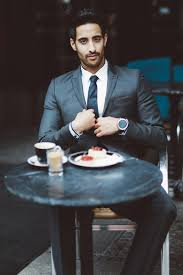middle_eastern_male: (68, 20, 110, 70)
